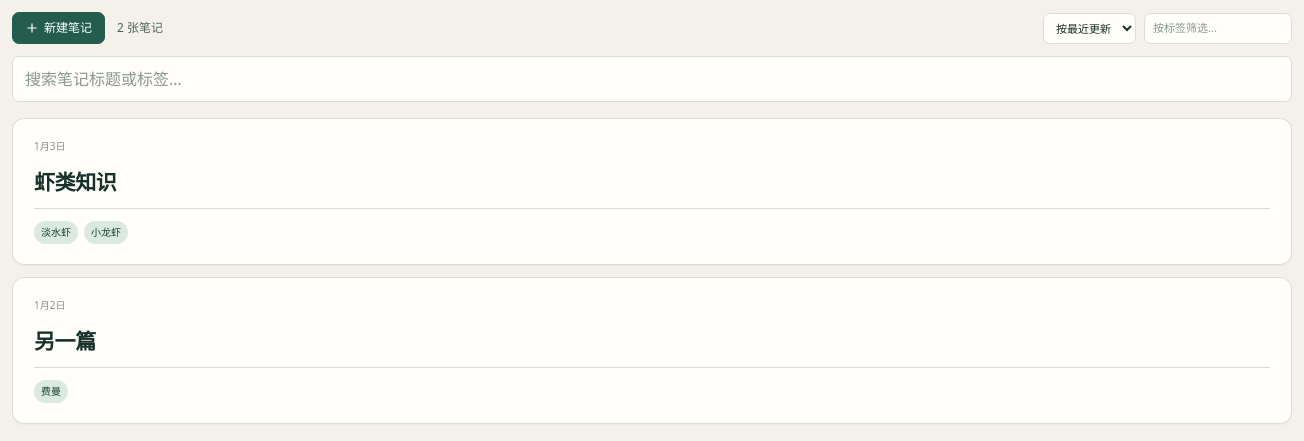
Test: NoteList › 标签筛选支持单字匹配：输入"虾"命中所有含"虾"字的标签
Type "虾" into the field with class "tag-filter-input".
click(1218, 28); type("虾")  # box x1=1144 y1=12 x2=1292 y2=44
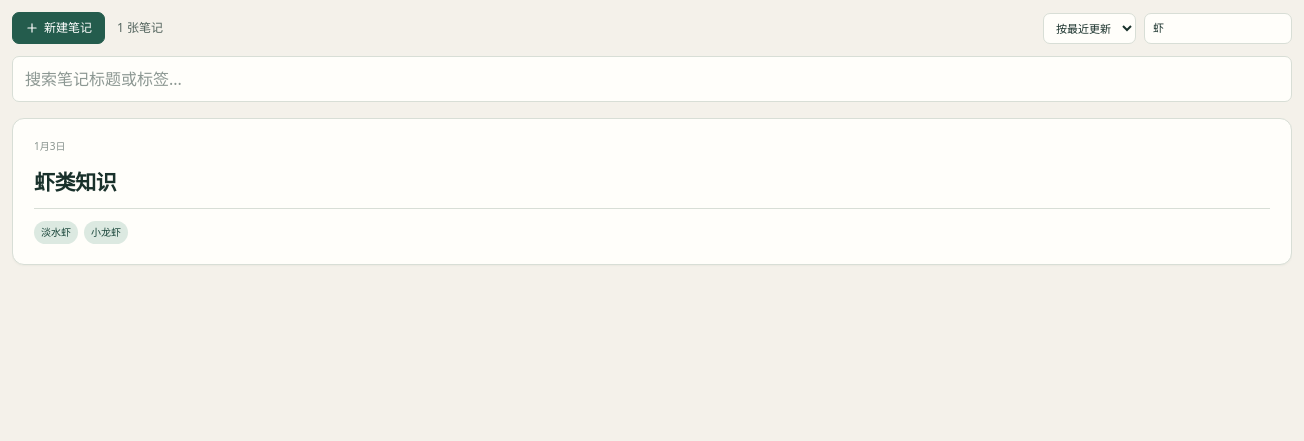
Expected: the element with class "note-card" shows "虾类知识", x1=34 y1=171 x2=116 y2=195
Expected: the number of elements with class "note-card" is 1, x1=12 y1=118 x2=1292 y2=265
